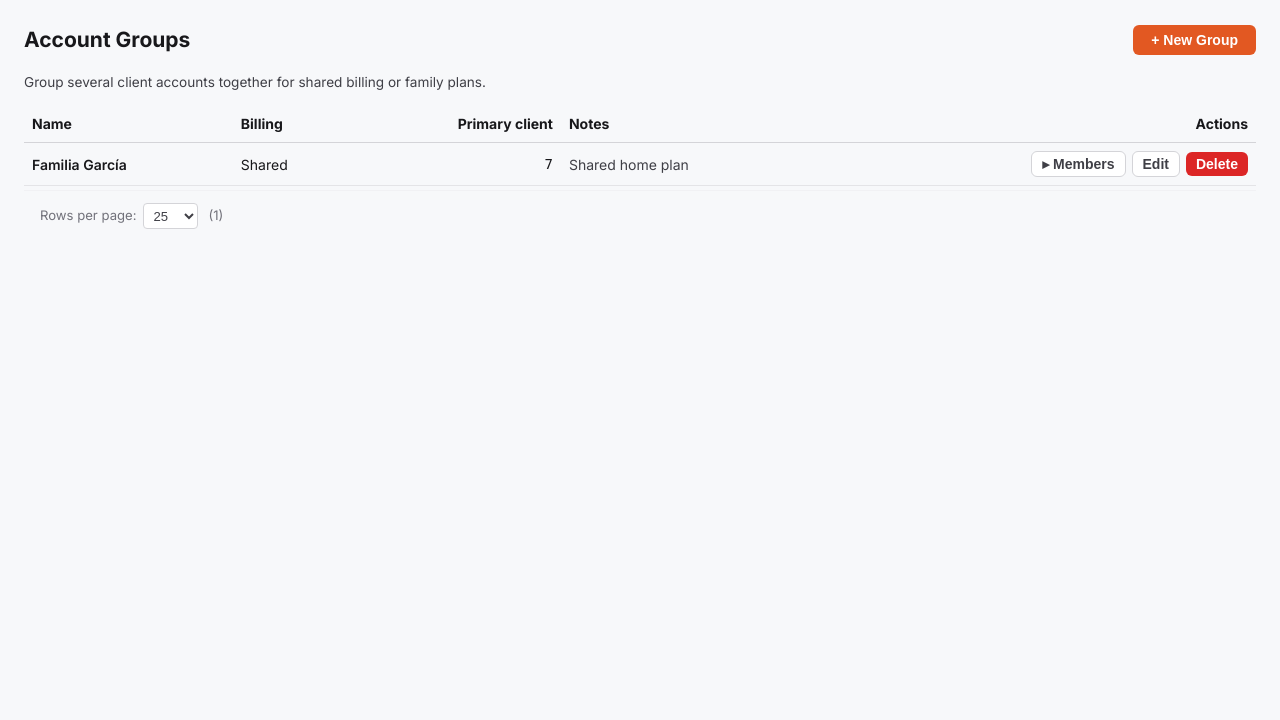
ClientGroupList page › the add-members picker disables clients already in the group (no double-add)
Expected: the text "Familia García" is shown, [24,143,233,186]
Click the button "▸ Members": (1078, 164) [1031,152,1126,178]
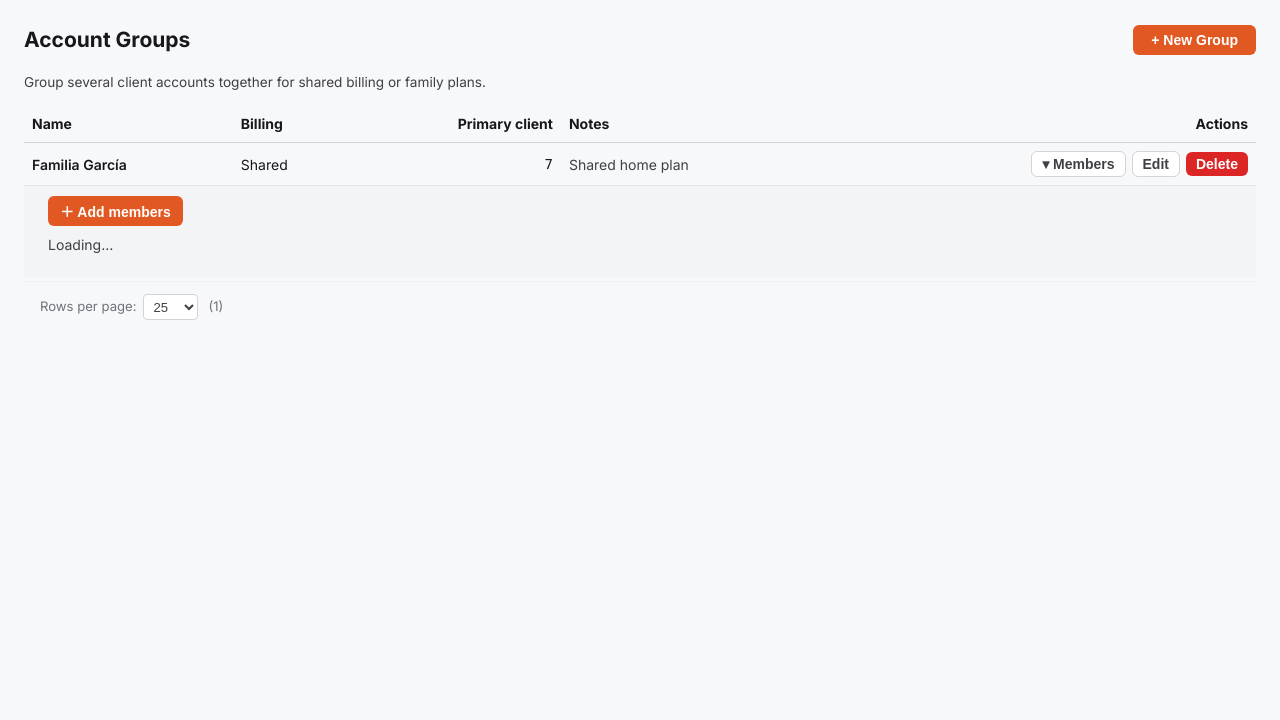
Click the button "＋ Add members": (115, 212) [48,196,183,226]
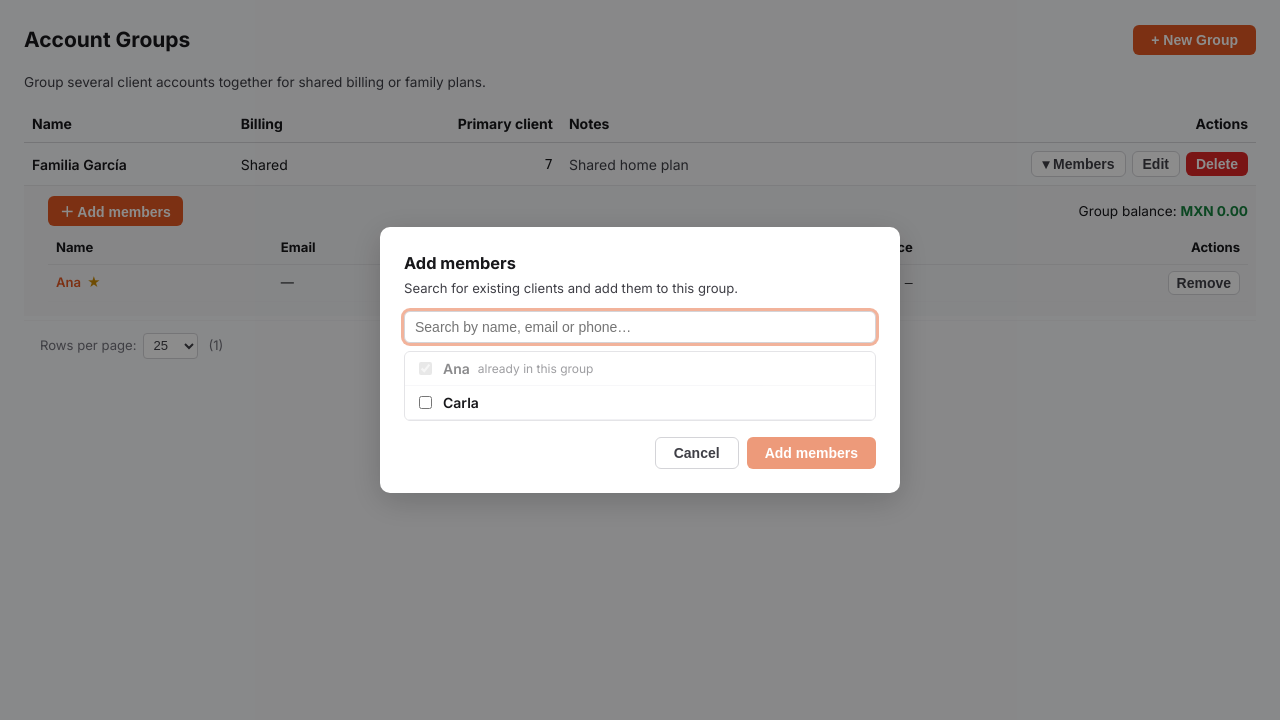
Now the text "Ana" is shown, box [443,358,470,379]
Now the text "already in this group" is shown, box [478,360,594,378]
